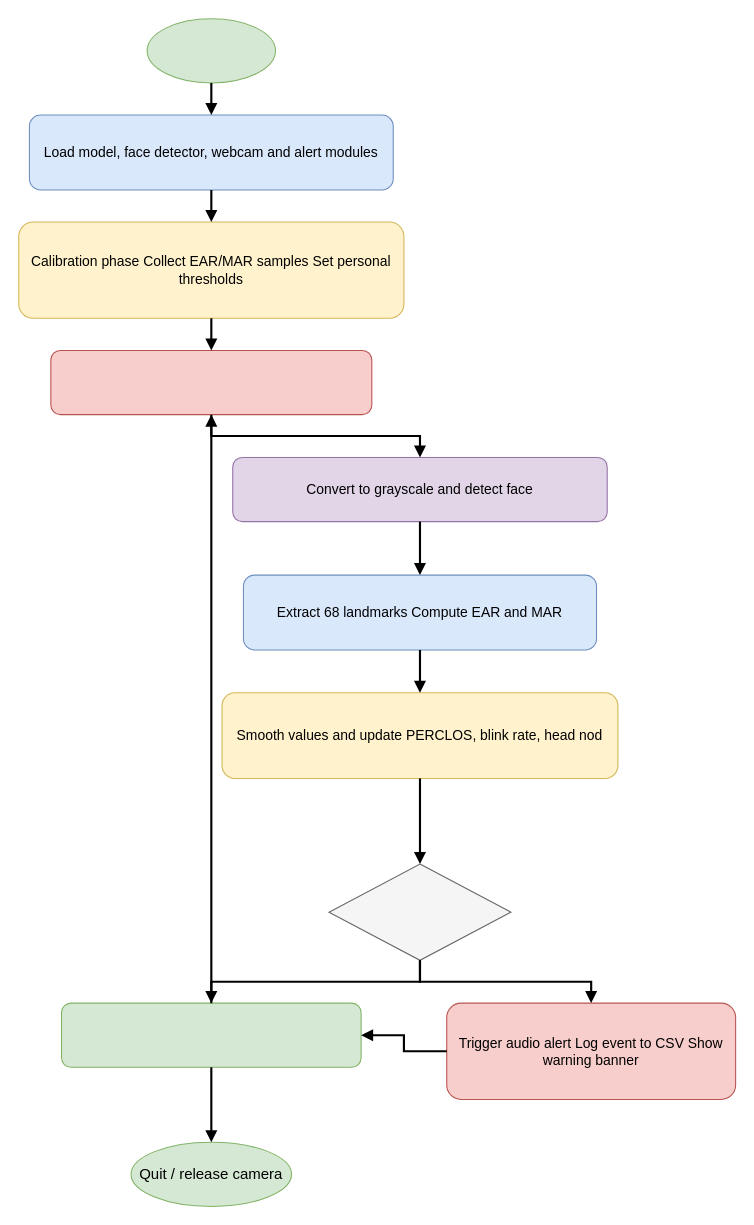
Some shapes in this 754 by 1225 pixel diagram are drawn without their labels. The shapes that lost their labels are listed below. From the top down, each one's box as (x1, y1, x2, y2) in pixels, then its label:
(146, 18, 276, 83): Start
(50, 349, 372, 415): Capture frame from webcam
(328, 863, 511, 960): Any drowsiness condition met?
(60, 1002, 361, 1067): Display HUD and continue loop
